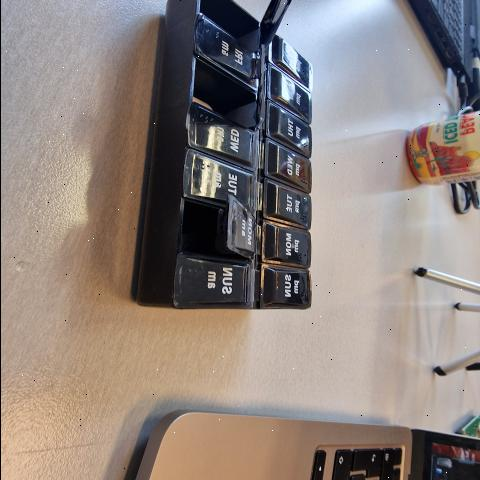Open: (180, 196, 250, 263), (193, 57, 257, 130)
